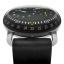watch: (1, 4, 63, 39)
